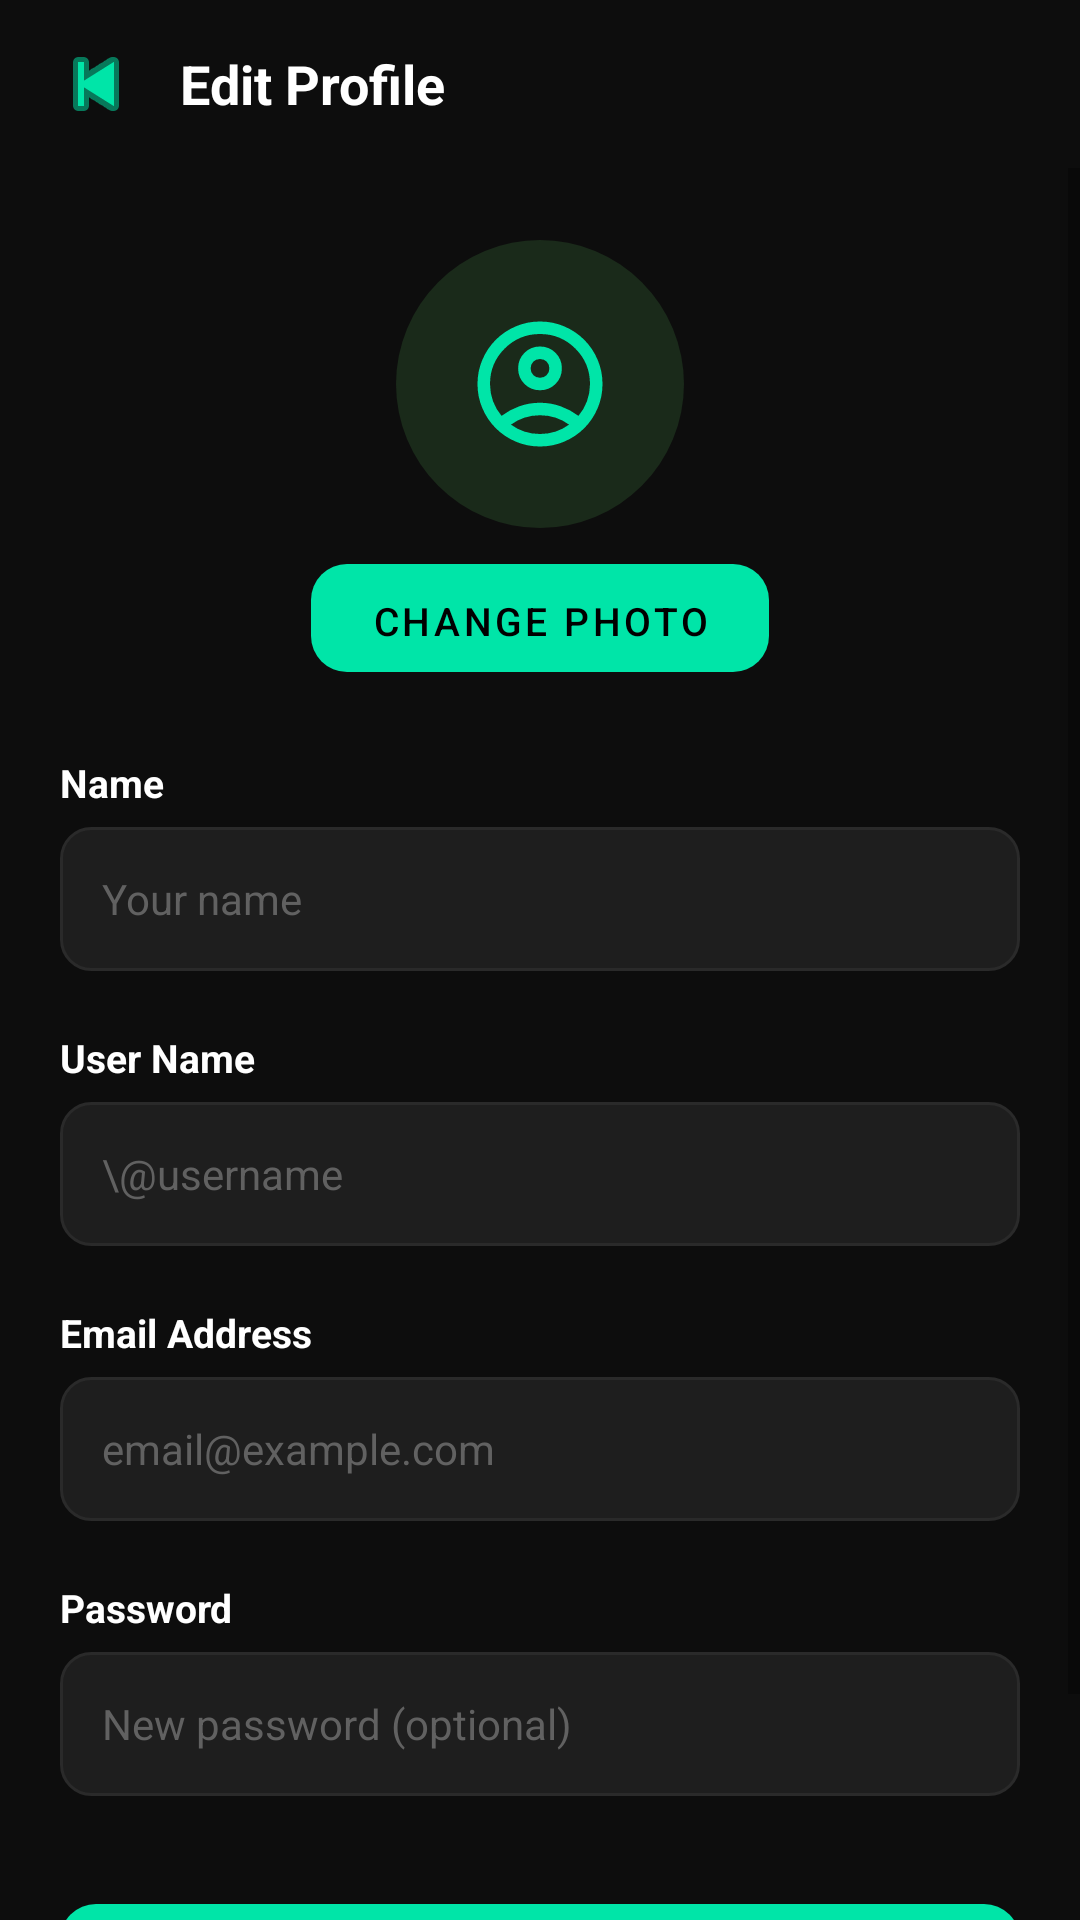

Named icons in this screenshot (1080w x 1920h) and their bounding boxes, bbox=[x1, y1, x2, y2]:
account circle: bbox=[396, 240, 684, 528]
Back: bbox=[73, 57, 119, 111]
